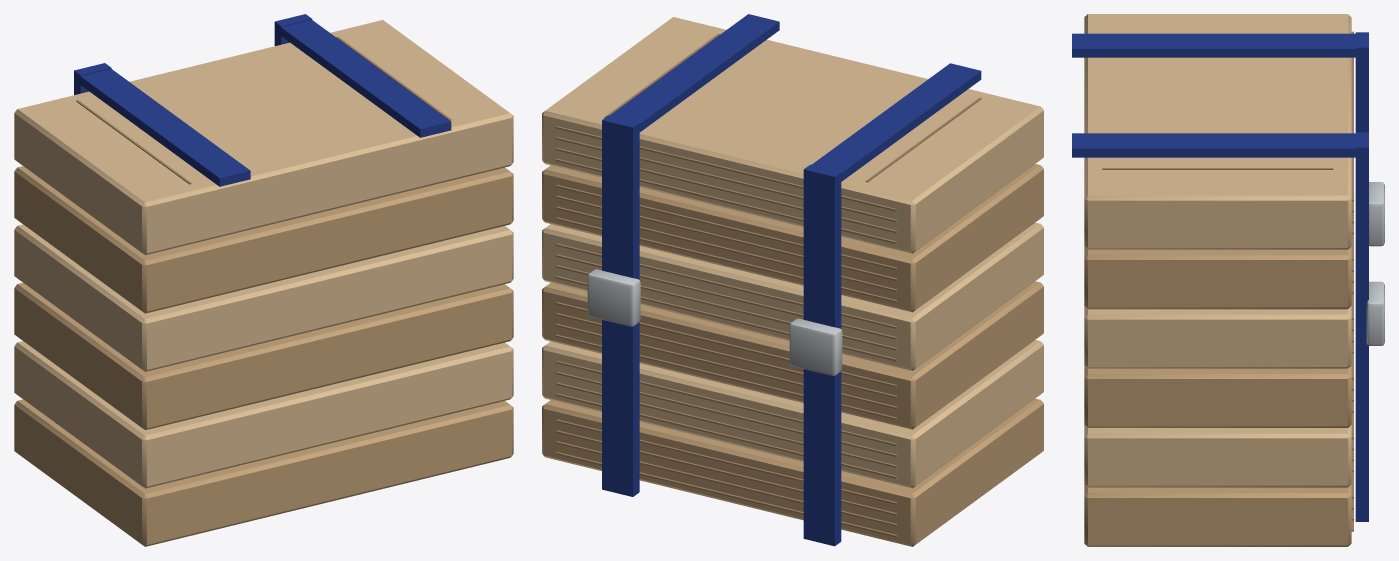
File: cribbing_upper.glb
3 views of the same model, side by side, from view 1: azimuth 30°, elevation 25°; view 2: azimuth 150°, elevation 25°; view 3: azimuth 270°, elevation 25° (orthographic).
Parts seen in each view (by area): view 1: cribbing_upper; view 2: cribbing_upper; view 3: cribbing_upper.
Boxes of the visible parts, <box> form: cribbing_upper: <box>14,14,513,546</box>; cribbing_upper: <box>542,14,1043,546</box>; cribbing_upper: <box>1072,14,1384,546</box>.
Size of the model in its own units: 0.2607 by 0.2463 by 0.1865.
